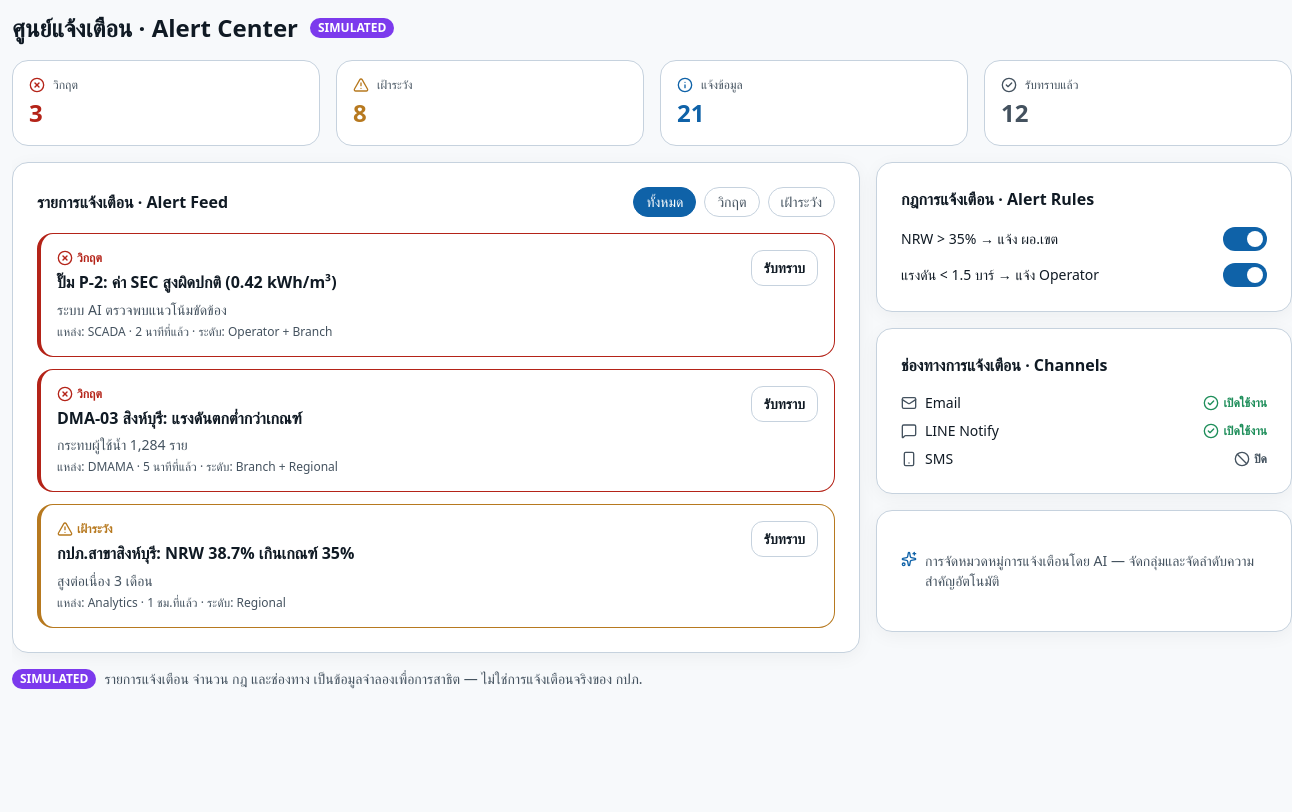
Test case: AlertCenterScreen › acknowledges an alert: it leaves the feed and the counts move
Expected: the list item with test id "alert-a1" is shown, left=37, top=233, right=835, bottom=357
Click the 1st button "รับทราบ": (784,268) left=751, top=250, right=818, bottom=286
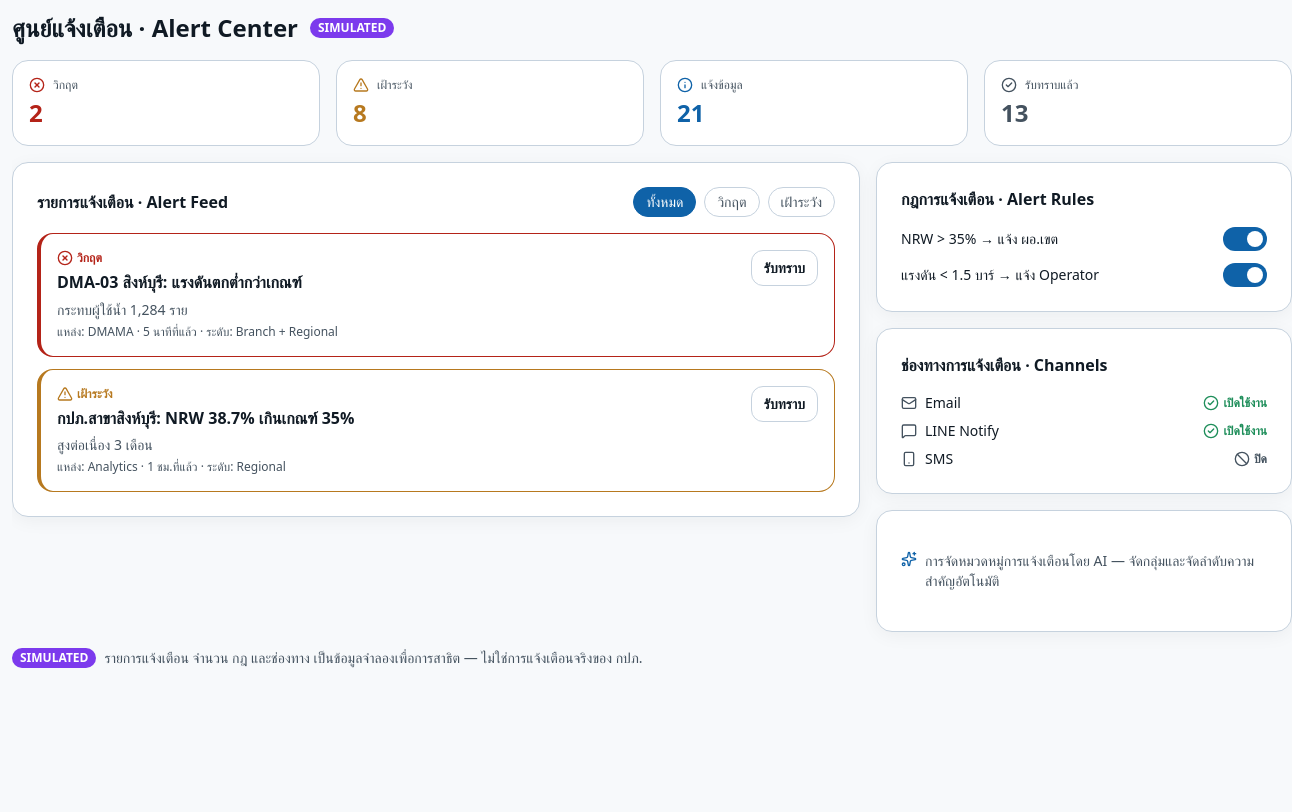
Result: the list item with test id "alert-a1" is gone
